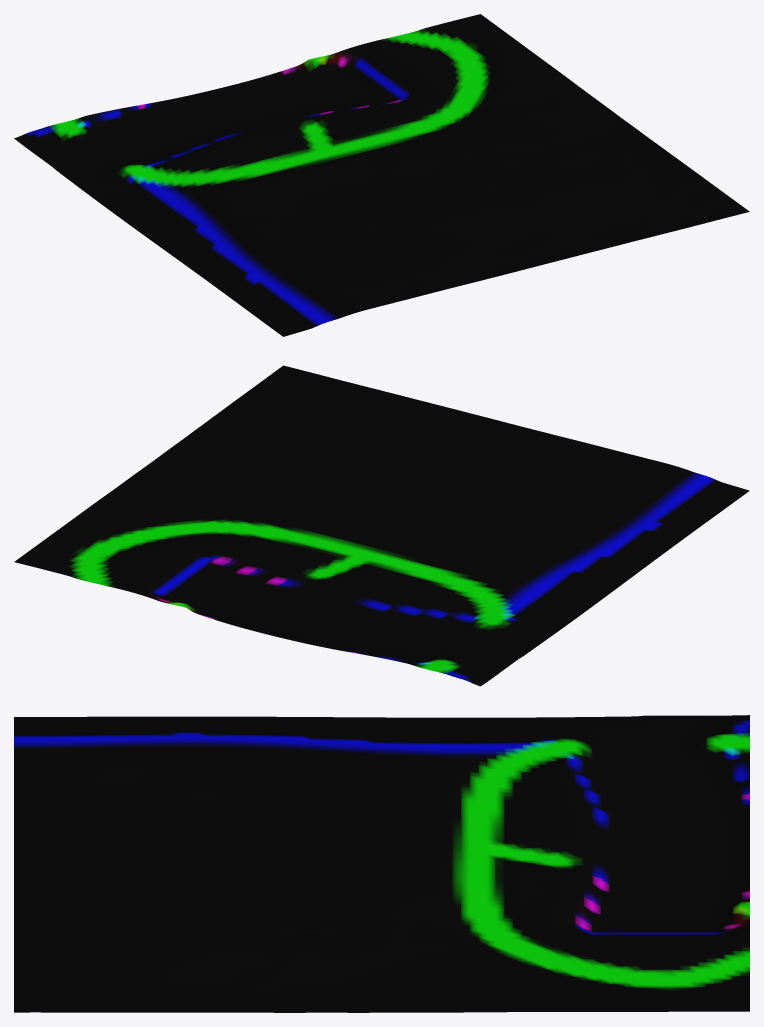
File: SM_JeddahCorniche_Terrain_0_1.fbx
The picture shows the model from 3 angles, top to bottom: view 1: azimuth 30°, elevation 25°; view 2: azimuth 150°, elevation 25°; view 3: azimuth 270°, elevation 25°; orthographic projection. The views are drawn at different scales.
Parts seen in each view (by area): view 1: SM_JeddahCorniche_Terrain_0_1; view 2: SM_JeddahCorniche_Terrain_0_1; view 3: SM_JeddahCorniche_Terrain_0_1.
Part boxes in pixels (x1=…): SM_JeddahCorniche_Terrain_0_1: x1=14, y1=14, x2=749, y2=336; SM_JeddahCorniche_Terrain_0_1: x1=14, y1=365, x2=749, y2=686; SM_JeddahCorniche_Terrain_0_1: x1=14, y1=715, x2=749, y2=1012.
Size of the model in its own units: 50400 by 1293 by 50400.
